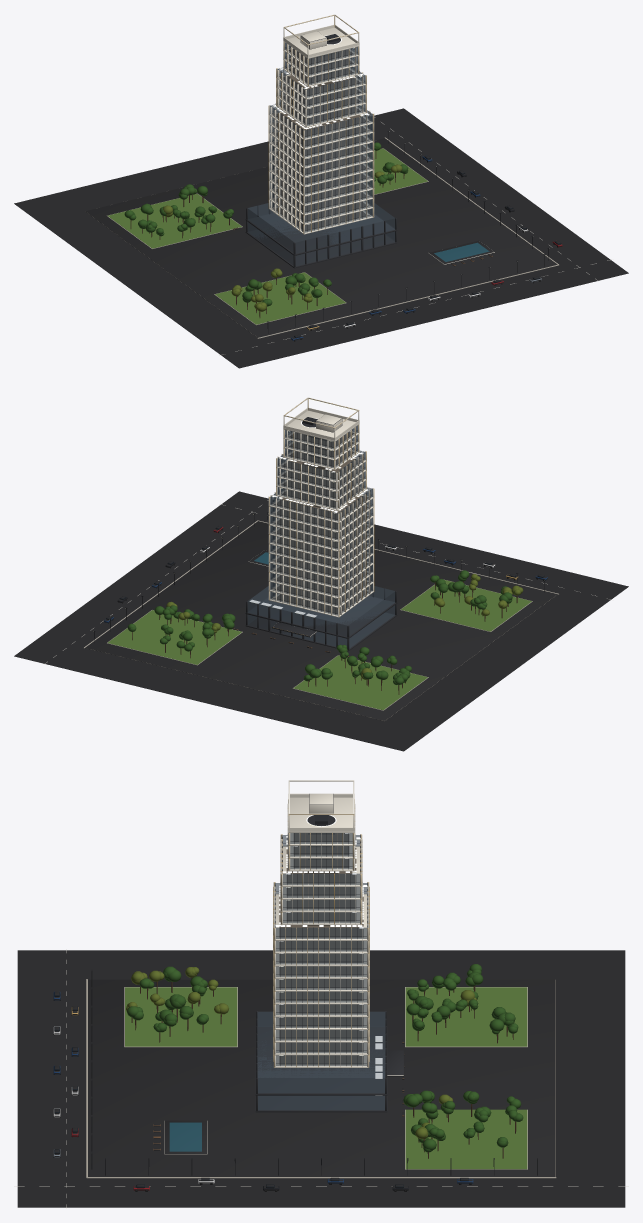
File: cmv4ysna200tz7dsceykkczvd.glb
The picture shows the model from 3 angles, top to bottom: view 1: azimuth 30°, elevation 25°; view 2: azimuth 150°, elevation 25°; view 3: azimuth 270°, elevation 25°; orthographic projection. The views are drawn at different scales.
Visible parts, largest first — view 1: site, podium, roof, floor-11, floor-15, floor-3, floor-5, floor-8, floor-2, floor-6, floor-9, floor-4 (+9 smaller); view 2: site, podium, roof, floor-11, floor-15, floor-3, floor-5, floor-8, floor-2, floor-6, floor-9, floor-4 (+9 smaller); view 3: site, podium, roof, floor-11, floor-15, floor-2, floor-5, floor-9, floor-6, floor-1, floor-4, floor-7 (+9 smaller).
Part boxes in pixels (box(x1,y1,x2,y2)): site: box(14, 108, 628, 368); podium: box(245, 203, 397, 268); roof: box(283, 14, 359, 58); floor-11: box(268, 103, 374, 140); floor-15: box(276, 67, 366, 99); floor-3: box(268, 181, 374, 215); floor-5: box(268, 162, 374, 196); floor-8: box(268, 134, 374, 168); floor-2: box(268, 190, 374, 224); floor-6: box(268, 153, 374, 187); floor-9: box(268, 124, 374, 159); floor-4: box(268, 171, 374, 206); site: box(14, 491, 628, 751); podium: box(245, 586, 397, 651); roof: box(283, 397, 359, 441); floor-11: box(268, 486, 374, 523); floor-15: box(276, 450, 366, 482); floor-3: box(268, 564, 374, 598); floor-5: box(268, 545, 374, 579); floor-8: box(268, 517, 374, 551); floor-2: box(268, 573, 374, 607); floor-6: box(268, 536, 374, 570); floor-9: box(268, 507, 374, 542); floor-4: box(268, 554, 374, 589); site: box(14, 949, 628, 1208); podium: box(255, 1011, 403, 1112); roof: box(288, 780, 354, 832); floor-11: box(273, 882, 369, 940); floor-15: box(280, 834, 362, 886); floor-2: box(273, 1036, 369, 1055); floor-5: box(273, 998, 369, 1017); floor-9: box(273, 947, 369, 966); floor-6: box(273, 986, 369, 1004); floor-1: box(273, 1049, 369, 1067); floor-4: box(273, 1011, 369, 1029); floor-7: box(273, 973, 369, 991).
Bounding box in the file's own units: 171 × 86.56 × 171.
